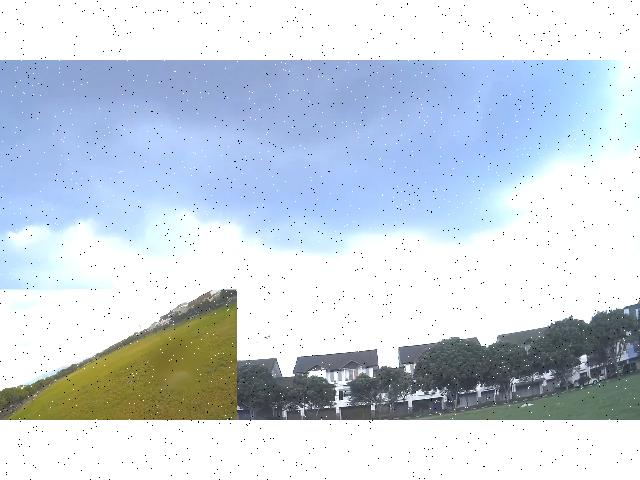Anti-Drone: (244, 322, 286, 348)
